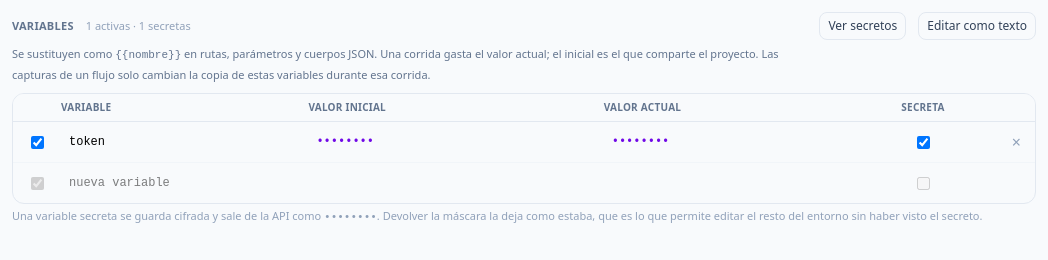
Test: ver los secretos › si la API se niega, se dice por qué
The width and height of the screenshot is (1048, 260).
Click the button "Ver secretos".
click(863, 26)  # box [819,12,906,40]
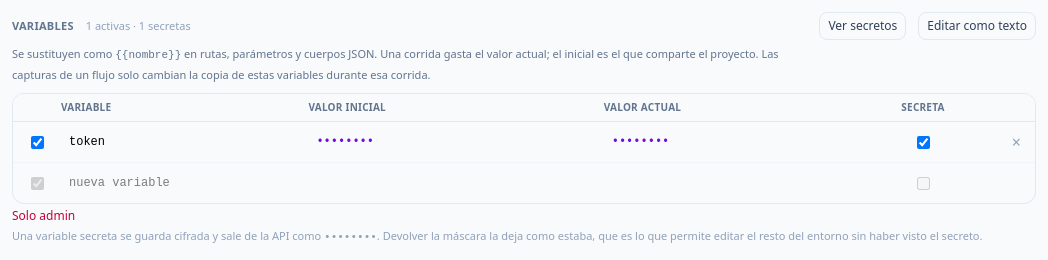
Expected: the text "Solo admin" is shown, [12,207,75,224]
